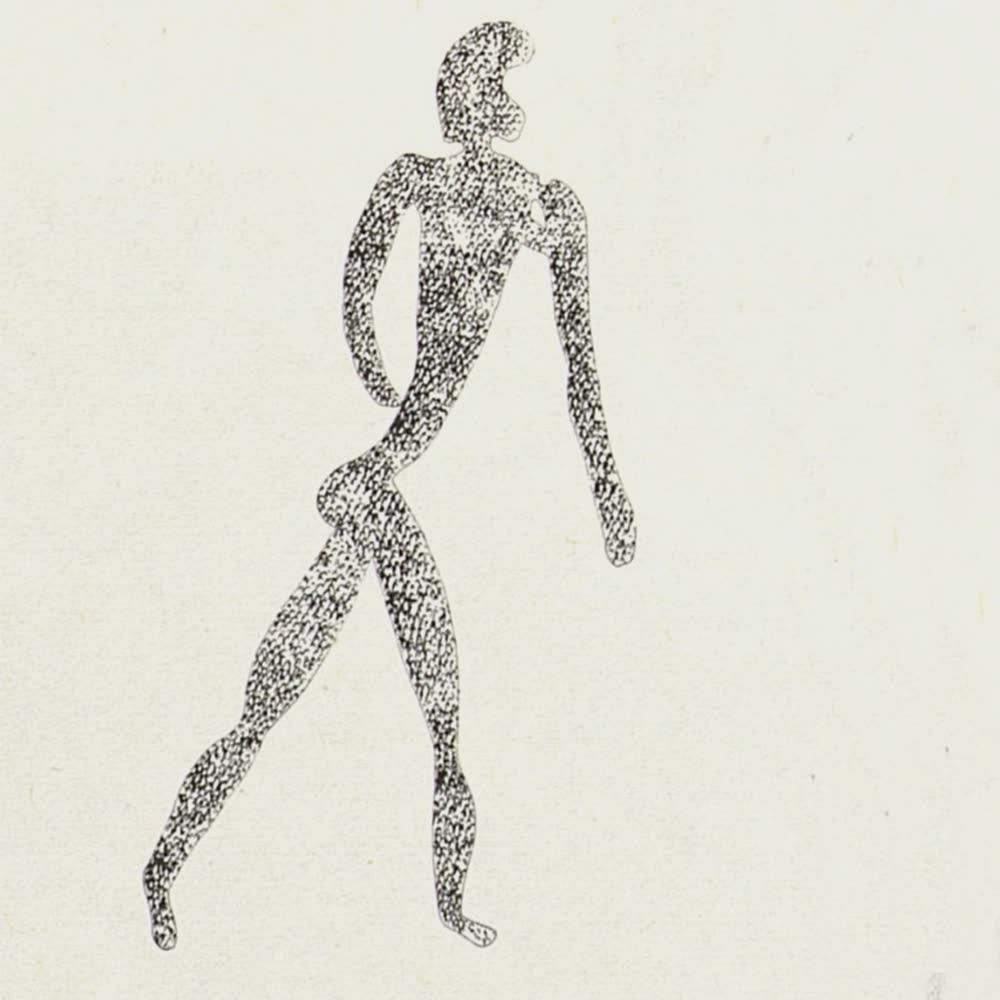man: (137, 16, 646, 954)
